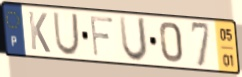0: (157, 21, 186, 66)
7: (189, 20, 212, 70)
F: (88, 14, 116, 59)
K: (26, 10, 52, 55)
U: (117, 14, 149, 64), (52, 11, 81, 57)
